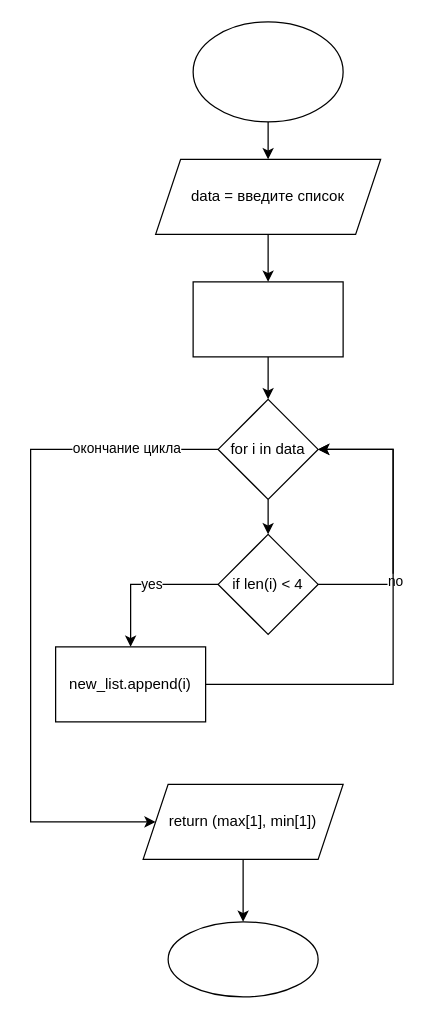
Image size: 425x1019. Some labels were removed from this diagram. Here are the shapes that lost their labels. From the top down, the centre of each, then its label:
At [267,71]: "start find min max index".
At [267,319]: "new_list = list()".
At [242,959]: "выход".
